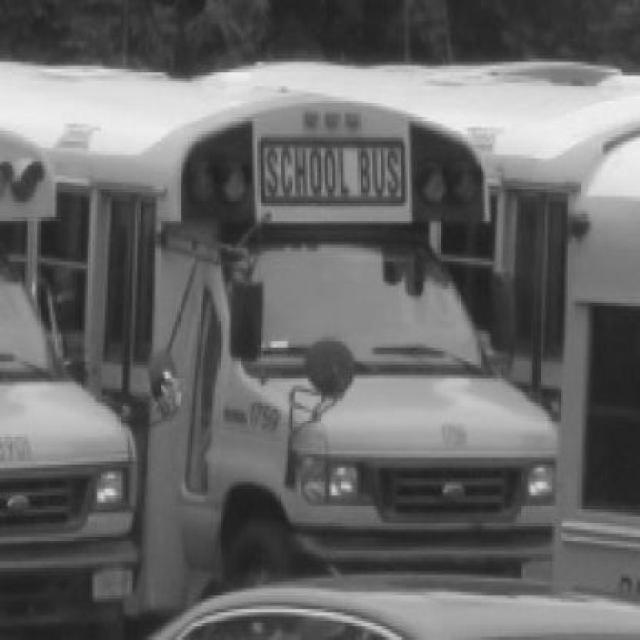Bus- Small: (0, 61, 558, 612)
